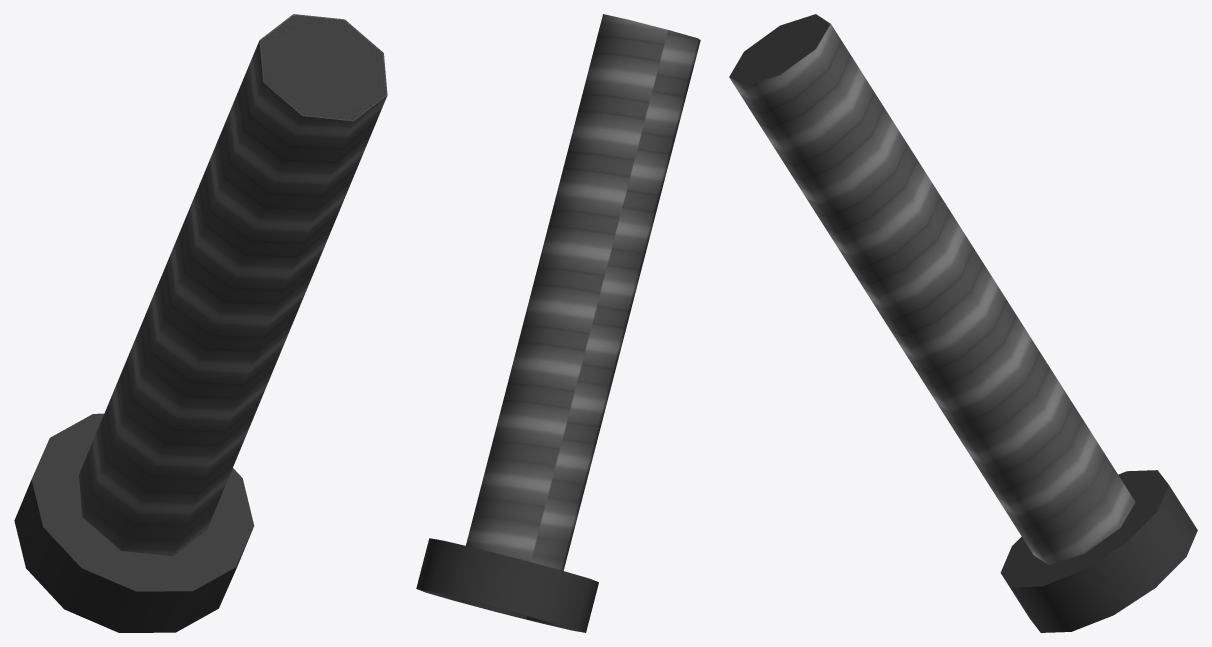
3 renders of one model, left to right at view 1: azimuth 30°, elevation 25°; view 2: azimuth 150°, elevation 25°; view 3: azimuth 270°, elevation 25°, orthographic. The views are drawn at different scales.
Visible parts, largest first — view 1: polySurface681_zu_1_nejiaoluosi; view 2: polySurface681_zu_1_nejiaoluosi; view 3: polySurface681_zu_1_nejiaoluosi.
Part boxes in pixels (x1,y1,x2,y2): polySurface681_zu_1_nejiaoluosi: (14,14,387,632); polySurface681_zu_1_nejiaoluosi: (416,14,700,632); polySurface681_zu_1_nejiaoluosi: (729,14,1197,632).
Size of the model in its own units: 0.757 by 2.55 by 1.83.
Materials: 1 (1 with a texture image).
